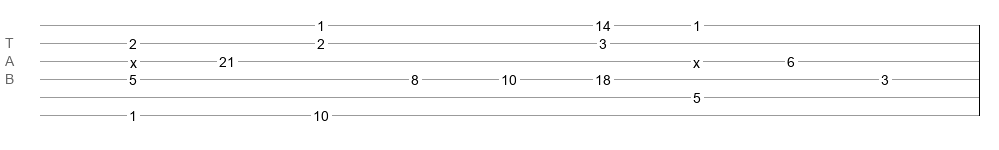1: (129, 108, 137, 118), (317, 18, 325, 28), (693, 18, 701, 28)
10: (313, 108, 329, 118), (501, 72, 517, 82)
14: (595, 18, 611, 28)
18: (595, 72, 611, 82)
2: (129, 36, 137, 46), (317, 36, 325, 46)
21: (219, 54, 235, 64)
3: (599, 36, 607, 46), (881, 72, 889, 82)
5: (129, 72, 137, 82), (693, 90, 701, 100)
6: (787, 54, 795, 64)
8: (411, 72, 419, 82)
x: (130, 55, 137, 63), (693, 55, 700, 63)
